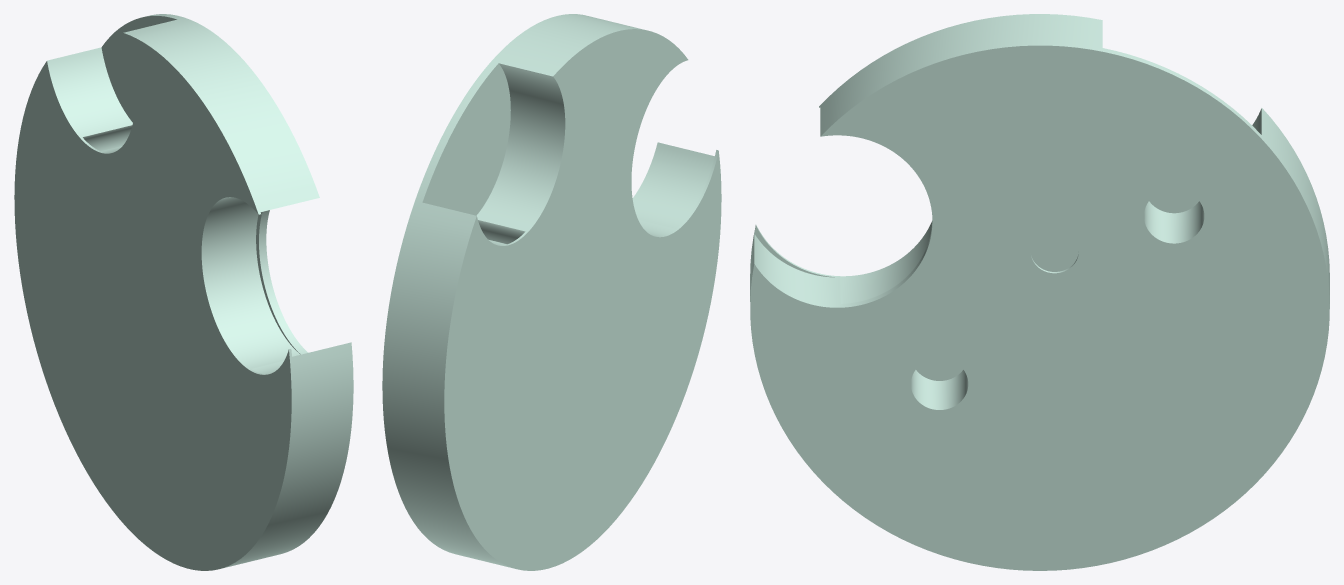
The picture shows the model from 3 angles, left to right: view 1: azimuth 30°, elevation 25°; view 2: azimuth 150°, elevation 25°; view 3: azimuth 270°, elevation 25°; orthographic projection. The views are drawn at different scales.
Visible parts, largest first — view 1: Renderer Node; view 2: Renderer Node; view 3: Renderer Node.
Part boxes in pixels (<box>): Renderer Node: <box>14,14,353,570</box>; Renderer Node: <box>382,14,721,570</box>; Renderer Node: <box>750,14,1329,570</box>.
Bounding box in the file's own units: 0.1953 × 1.52 × 1.52.
